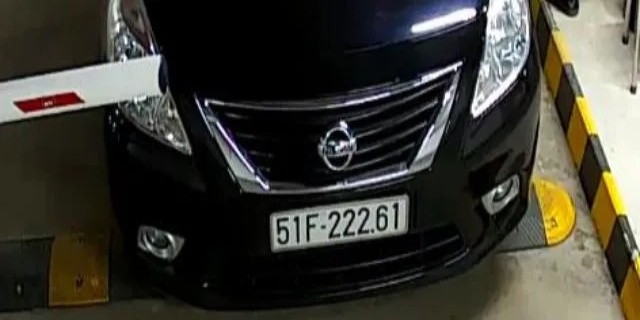bien_so: (271, 202, 407, 245)
